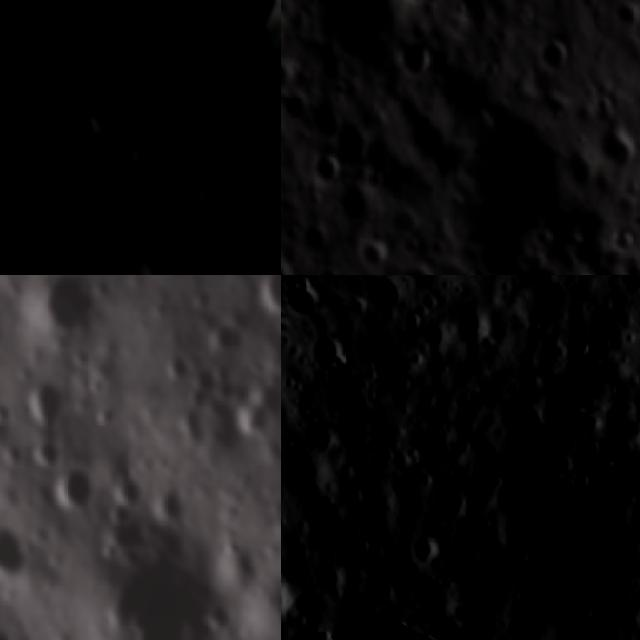crater: (494, 443, 640, 635), (449, 105, 597, 262), (183, 0, 281, 74), (486, 384, 558, 461), (575, 414, 640, 499), (29, 275, 104, 347), (139, 126, 219, 192), (530, 378, 598, 447), (439, 292, 503, 358), (281, 438, 335, 512), (402, 570, 466, 632), (557, 206, 614, 275), (55, 96, 112, 158), (130, 39, 188, 97), (296, 325, 354, 379), (196, 177, 250, 233), (118, 0, 175, 52), (19, 375, 70, 433), (300, 543, 354, 597), (98, 232, 165, 275), (423, 472, 475, 524), (332, 179, 384, 230), (48, 465, 97, 518), (409, 307, 456, 360), (353, 562, 402, 612), (330, 121, 372, 176), (104, 475, 150, 521), (401, 523, 446, 570), (0, 518, 28, 592), (152, 485, 194, 534), (530, 34, 576, 76), (598, 128, 640, 173), (398, 40, 438, 86), (296, 224, 334, 264), (305, 154, 348, 189), (248, 275, 281, 320), (305, 416, 342, 456), (357, 238, 394, 275), (309, 108, 349, 142), (29, 435, 63, 475), (281, 89, 317, 124), (605, 0, 640, 35), (160, 347, 189, 386), (281, 563, 297, 626), (427, 622, 482, 640), (397, 622, 448, 640), (293, 622, 339, 640), (613, 275, 640, 304), (281, 61, 298, 95), (399, 267, 442, 275)
